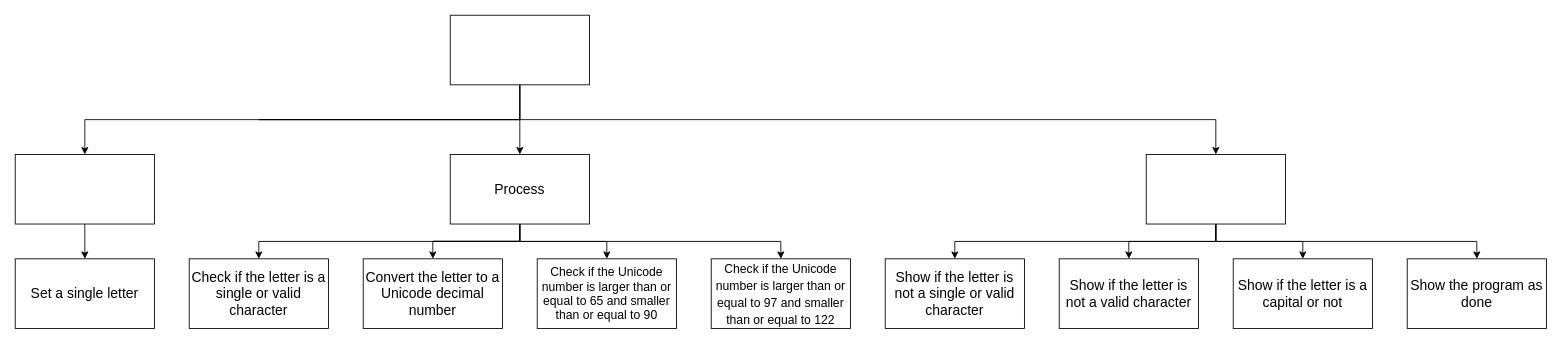
This 1562x344 diagram has some shape labels left out. The shapes that lost their labels are listed below. From the top down, each one's centre as x and y in pixels, then its label:
At (519,49): "Checking Capitalization".
At (84,189): "Input".
At (1215,189): "Output".
